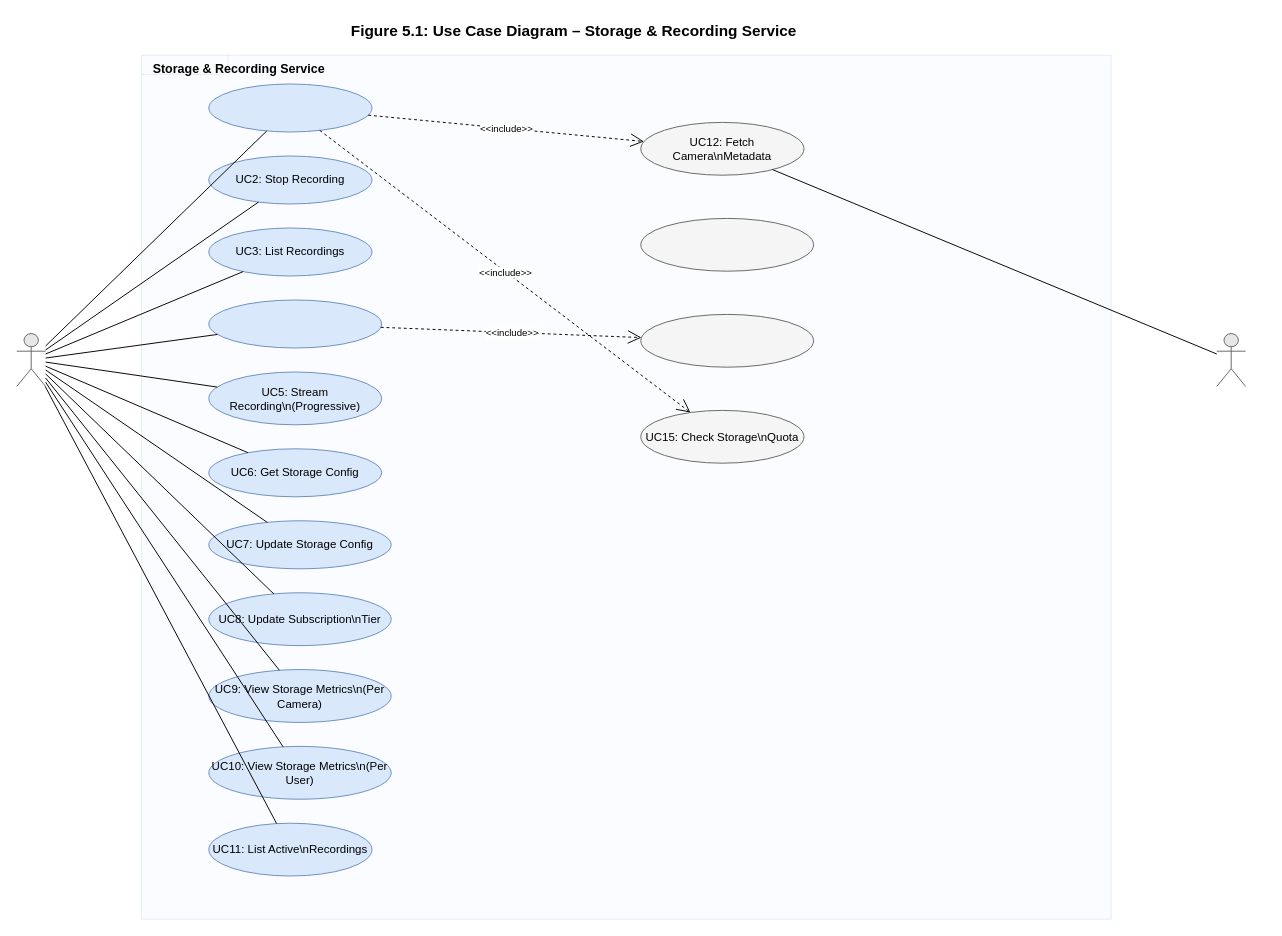
Image size: 1282x936. Some labels were removed from this diagram. Each missing label, with the centre of its shape:
"Camera Management Service" belongs at pixel 1231 359.
"UC13: Enforce Retention\nPolicy" belongs at pixel 727 244.
"UC14: Generate Download\nToken" belongs at pixel 727 340.
"UC1: Start Recording" belongs at pixel 290 107.
"UC4: Download Recording" belongs at pixel 295 323.
"User" belongs at pixel 31 359.
